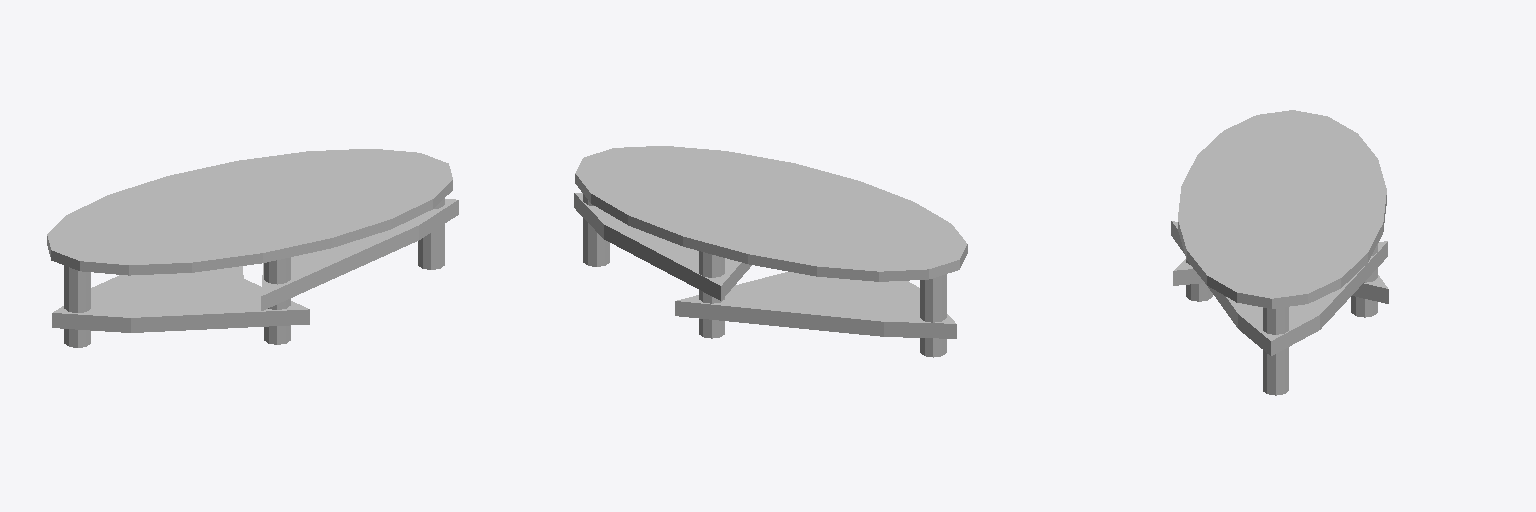
The model's file is Oval Coffee table.obj.
The picture shows the model from 3 angles: view 1: azimuth 30°, elevation 25°; view 2: azimuth 150°, elevation 25°; view 3: azimuth 270°, elevation 25°; orthographic projection.
Visible parts, largest first — view 1: Cylinder003, Cylinder001, Poten; view 2: Cylinder003, Cylinder001, Poten; view 3: Cylinder003, Cylinder001, Poten.
Part boxes in pixels (x1,y1,x2,y2): Cylinder003: (47,149,452,275); Cylinder001: (52,199,458,332); Poten: (64,198,444,347); Cylinder003: (575,146,967,281); Cylinder001: (574,193,956,338); Poten: (583,194,946,357); Cylinder003: (1178,110,1386,308); Cylinder001: (1171,221,1388,355); Poten: (1186,244,1377,395).
Size of the model in its own units: 1.67 by 0.3981 by 0.7955.